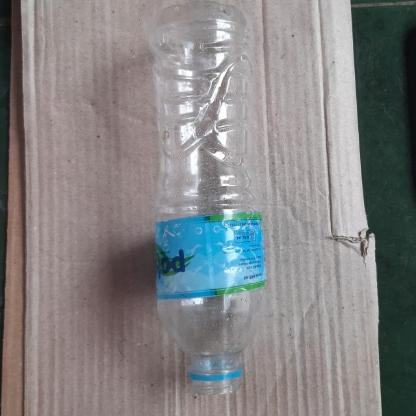Plastic Bottle: (155, 0, 267, 395)
